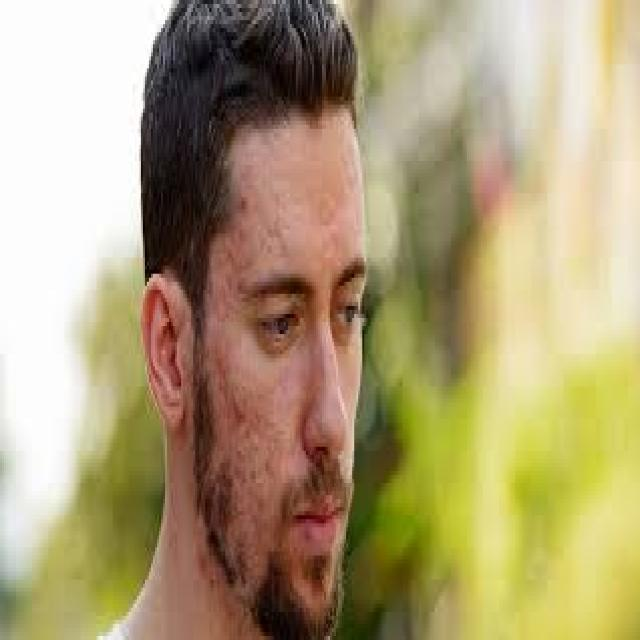Acne: (214, 339, 266, 516), (228, 188, 249, 315)
